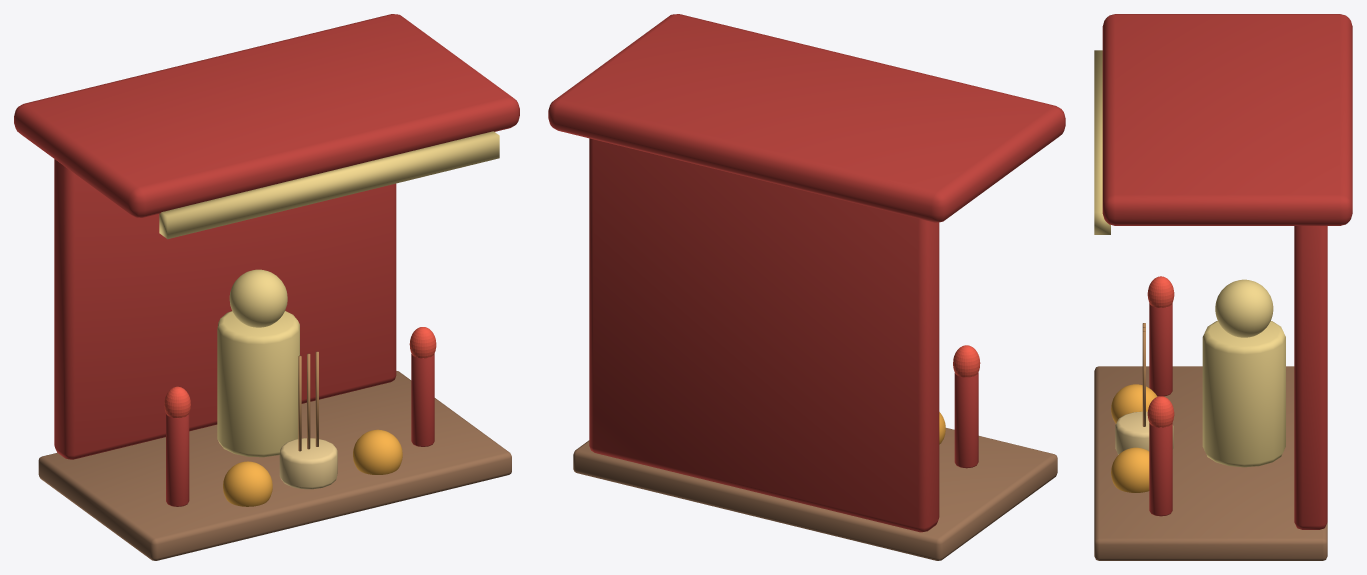
File: v2_shrine.fbx
3 renders of one model, left to right at view 1: azimuth 30°, elevation 25°; view 2: azimuth 150°, elevation 25°; view 3: azimuth 270°, elevation 25°, orthographic. The views are drawn at different scales.
Visible parts, largest first — view 1: ShrineBack, ShrineRoof, ShrineShelf, FigureBody, ShrineTrim, FigureHead, IncensePot, Candle-1, Candle1, Orange0, Orange1, CandleBulb1 (+1 smaller); view 2: ShrineBack, ShrineRoof, ShrineShelf, Candle-1, CandleBulb-1; view 3: ShrineRoof, ShrineShelf, FigureBody, ShrineBack, FigureHead, Candle1, Candle-1, ShrineTrim, Orange1, IncensePot, Orange0, CandleBulb1 (+2 smaller).
Boxes of the visible parts, bbox=[...] form: ShrineBack: bbox=[54, 159, 396, 459]; ShrineRoof: bbox=[14, 14, 519, 217]; ShrineShelf: bbox=[38, 371, 511, 560]; FigureBody: bbox=[217, 311, 299, 457]; ShrineTrim: bbox=[159, 131, 499, 239]; FigureHead: bbox=[229, 269, 287, 327]; IncensePot: bbox=[279, 438, 337, 489]; Candle-1: bbox=[166, 413, 189, 506]; Candle1: bbox=[411, 354, 434, 446]; Orange0: bbox=[223, 461, 272, 506]; Orange1: bbox=[353, 429, 402, 474]; CandleBulb1: bbox=[409, 327, 436, 358]; ShrineBack: bbox=[589, 138, 939, 532]; ShrineRoof: bbox=[548, 14, 1065, 222]; ShrineShelf: bbox=[573, 428, 1057, 560]; Candle-1: bbox=[954, 373, 978, 468]; CandleBulb-1: bbox=[953, 345, 980, 377]; ShrineRoof: bbox=[1102, 14, 1352, 225]; ShrineShelf: bbox=[1094, 366, 1327, 560]; FigureBody: bbox=[1202, 321, 1285, 467]; ShrineBack: bbox=[1294, 226, 1327, 529]; FigureHead: bbox=[1215, 279, 1273, 337]; Candle1: bbox=[1149, 423, 1172, 516]; Candle-1: bbox=[1149, 303, 1172, 396]; ShrineTrim: bbox=[1094, 50, 1110, 234]; Orange1: bbox=[1111, 447, 1149, 492]; IncensePot: bbox=[1115, 411, 1173, 454]; Orange0: bbox=[1111, 384, 1157, 423]; CandleBulb1: bbox=[1147, 396, 1174, 427].
Size of the model in its own units: 0.54 by 0.49 by 0.31.
